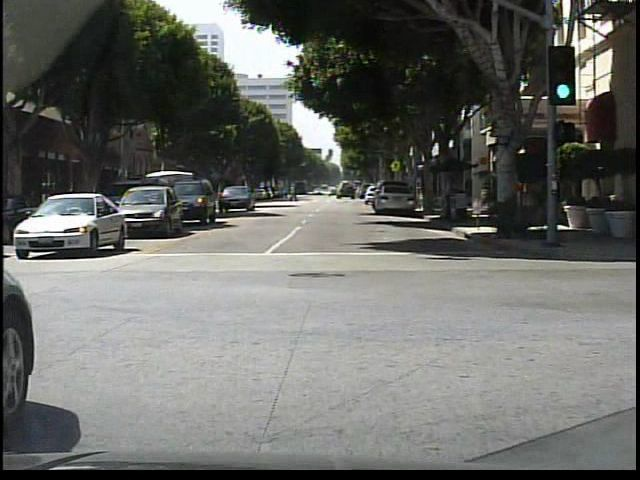person: (545, 161, 565, 240), (441, 172, 457, 220), (515, 170, 528, 224), (289, 183, 299, 201)
